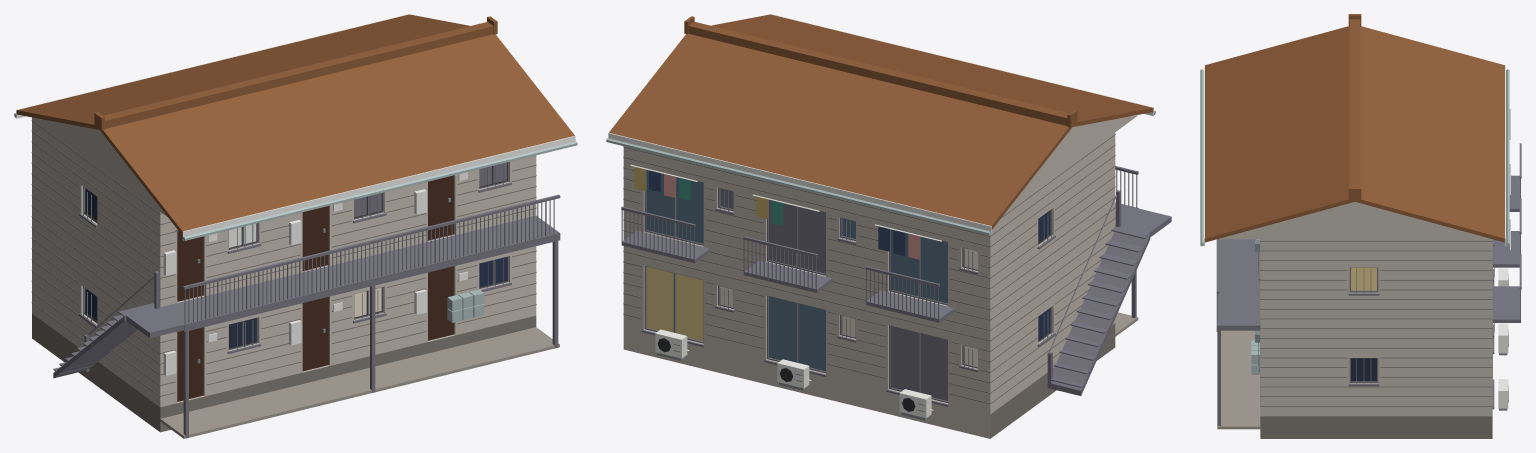
File: tb_wooden_apartment_2f_01_b.fbx
3 renders of one model, left to right at view 1: azimuth 30°, elevation 25°; view 2: azimuth 150°, elevation 25°; view 3: azimuth 270°, elevation 25°, orthographic. The views are drawn at different scales.
Parts seen in each view (by area): view 1: tb_wooden_apartment_2f_01_b; view 2: tb_wooden_apartment_2f_01_b; view 3: tb_wooden_apartment_2f_01_b.
Boxes of the visible parts, left/top/right/bottom form: tb_wooden_apartment_2f_01_b: left=14, top=14, right=577, bottom=438; tb_wooden_apartment_2f_01_b: left=606, top=14, right=1171, bottom=438; tb_wooden_apartment_2f_01_b: left=1200, top=14, right=1521, bottom=438.
Size of what is drawn, in the model's own units: 12.35 by 7.86 by 9.
Materials: 2 (2 with a texture image).
